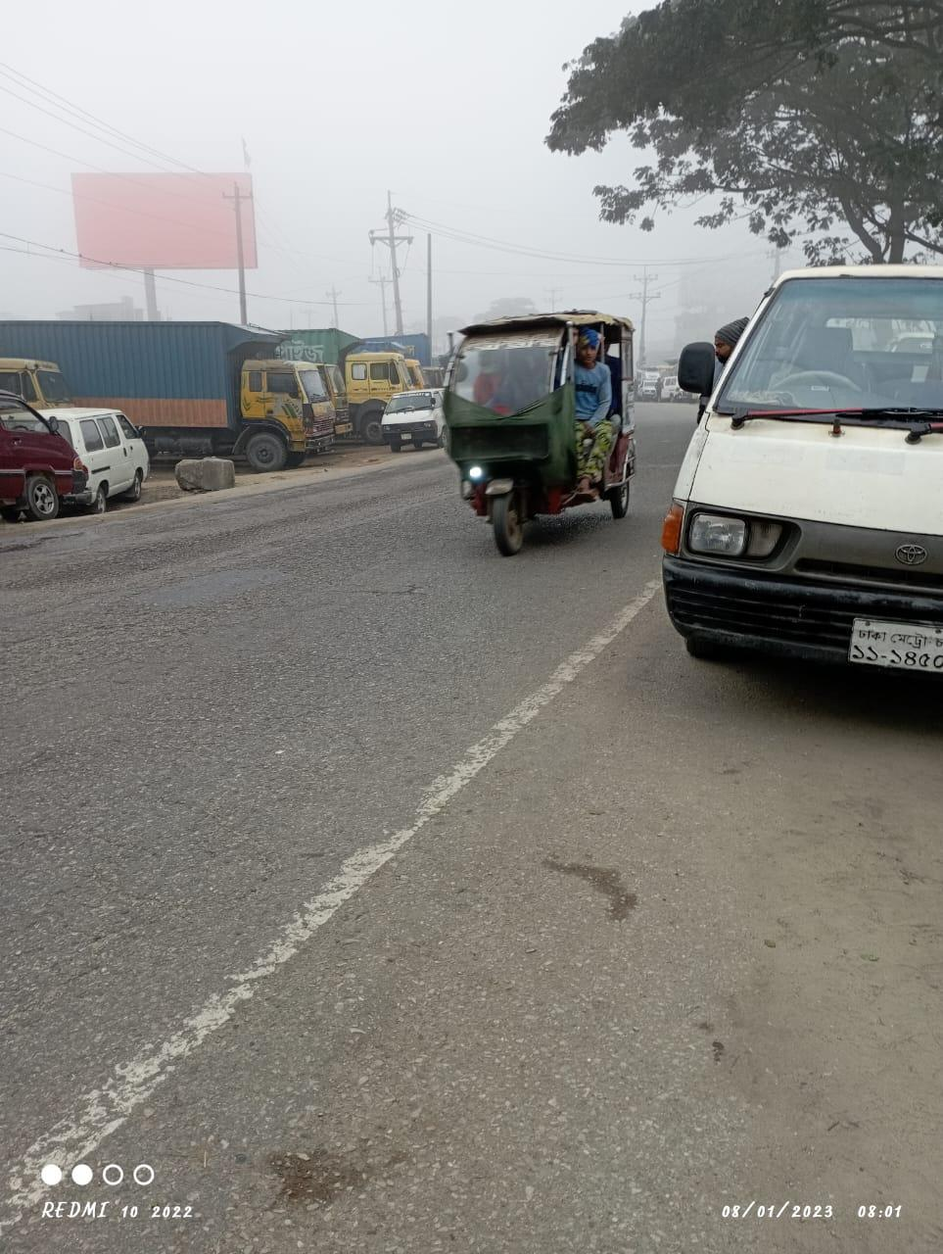Car: (671, 235, 943, 701), (420, 305, 651, 541), (44, 389, 166, 520), (4, 385, 92, 537), (373, 380, 440, 450)
Truck: (116, 306, 338, 481)
